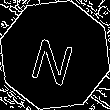N_N: (29, 25, 81, 85)
